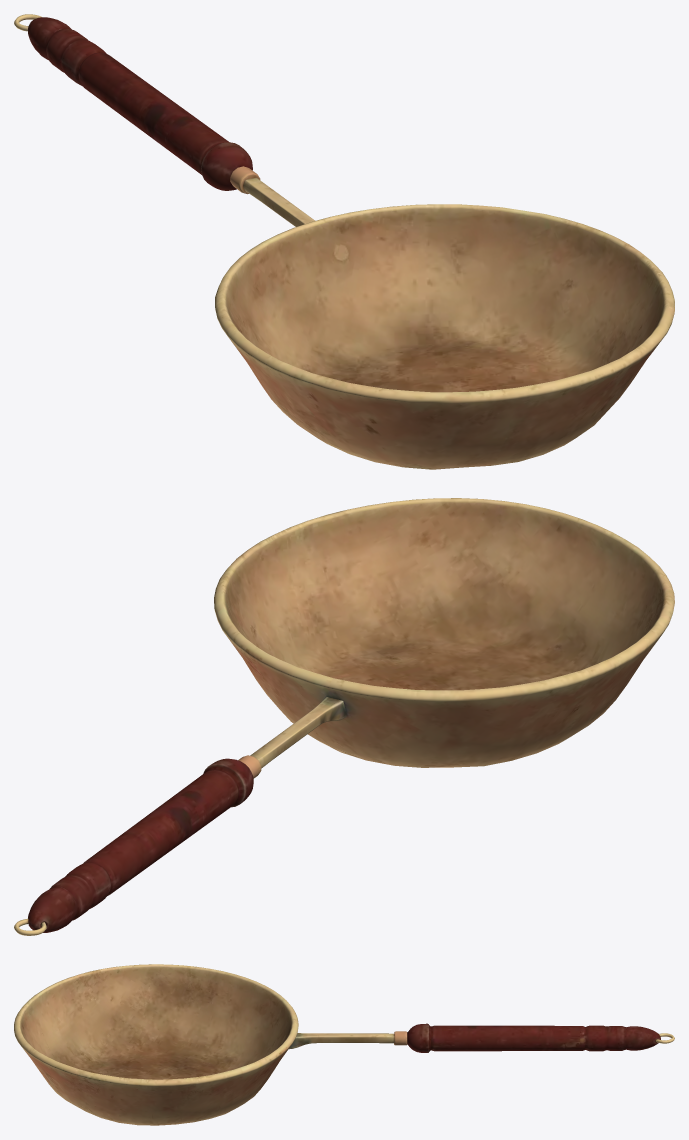
File: brass_pan_01.glb
3 renders of one model, top to bottom at view 1: azimuth 30°, elevation 25°; view 2: azimuth 150°, elevation 25°; view 3: azimuth 270°, elevation 25°, orthographic. The views are drawn at different scales.
Visible parts, largest first — view 1: brass_pan_01; view 2: brass_pan_01; view 3: brass_pan_01.
Part boxes in pixels (box(x1,y1,x2,y2)): brass_pan_01: box(14, 14, 674, 469); brass_pan_01: box(14, 498, 674, 935); brass_pan_01: box(14, 964, 674, 1125).
Size of the model in its own units: 0.1913 by 0.0525 by 0.4497.
1 material, 1 textured.
